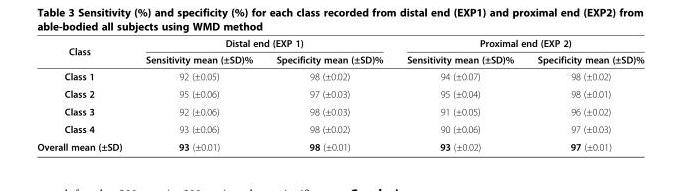table: (36, 37, 643, 152)
table column: (263, 37, 394, 152), (394, 37, 525, 152), (133, 37, 263, 152), (525, 37, 643, 152), (36, 37, 133, 152)
table column header: (36, 37, 643, 67)
table row: (36, 84, 643, 102), (36, 102, 643, 120), (36, 67, 643, 84), (36, 120, 643, 137), (36, 51, 643, 67), (36, 137, 643, 152), (36, 37, 643, 51)
table spanning cell: (133, 37, 394, 51), (394, 37, 643, 51), (36, 37, 133, 67)
